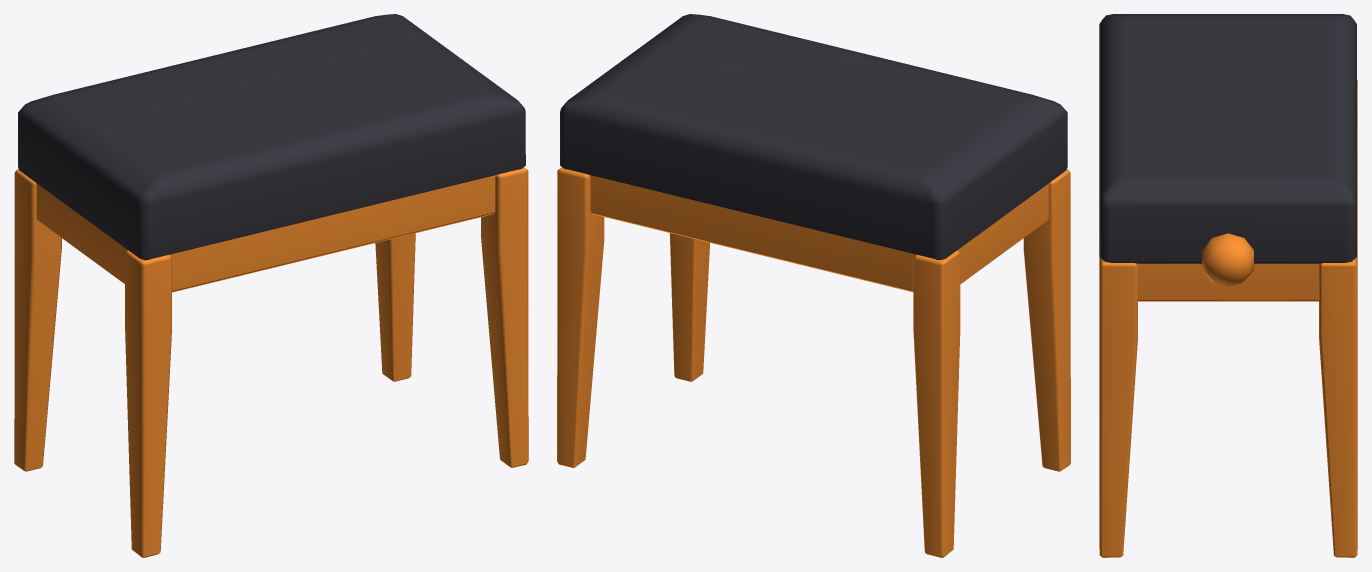
The model's file is Mesh_Resto_tabouret_piano.fbx.
3 views of the same model, side by side, from view 1: azimuth 30°, elevation 25°; view 2: azimuth 150°, elevation 25°; view 3: azimuth 270°, elevation 25° (orthographic).
Visible parts, largest first — view 1: tabouret_piano; view 2: tabouret_piano; view 3: tabouret_piano.
Part boxes in pixels (x1=…): tabouret_piano: x1=14, y1=14, x2=528, y2=557; tabouret_piano: x1=557, y1=14, x2=1070, y2=557; tabouret_piano: x1=1099, y1=14, x2=1357, y2=557.
Size of the model in its own units: 31.15 by 26.68 by 16.99.
